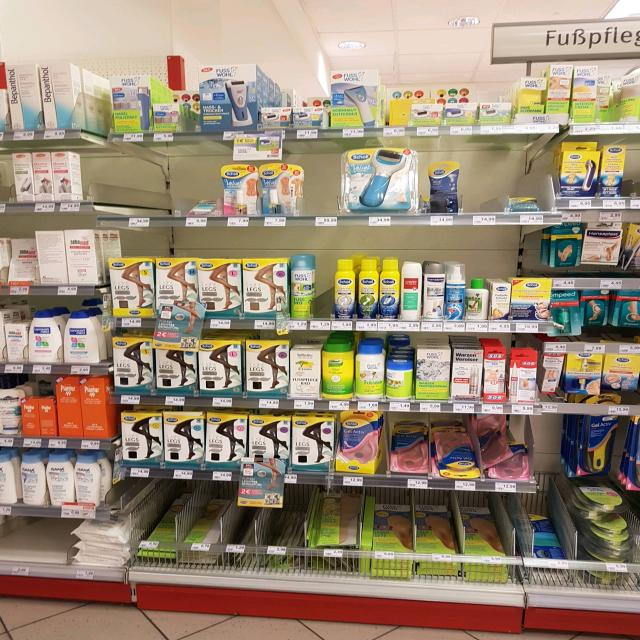void: (98, 140, 143, 225), (143, 147, 189, 229), (9, 521, 69, 578), (466, 137, 506, 222), (307, 146, 339, 230)
